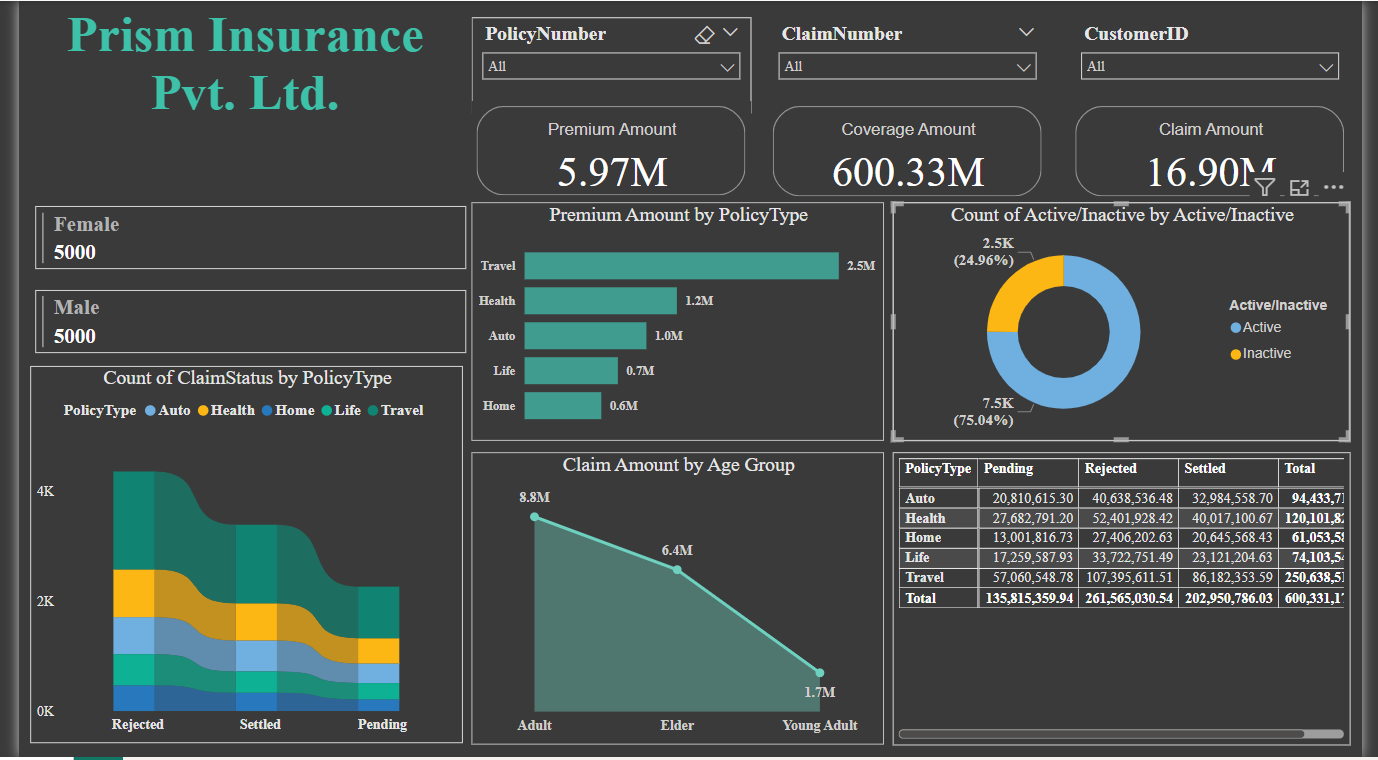

What the dashboard file says about the page in this screenshot:
{"tool":"powerbi","page":{"name":"Page 1","canvas":[1280,720],"ordinal":0},"visuals":[{"type":"slicer","fields":{"Values":["InsuranceData.PolicyNumber"]},"box":[430.9,15.1,266.2,91.9],"z":0},{"type":"slicer","fields":{"Values":["InsuranceData.ClaimNumber"]},"box":[713.6,15.1,266.2,91.9],"z":1000},{"type":"slicer","fields":{"Values":["InsuranceData.CustomerID"]},"box":[1001.7,15.1,266.2,91.9],"z":2000},{"type":"textbox","box":[0,0,430.9,123.5],"z":3000},{"type":"cardVisual","fields":{"Data":["Sum(InsuranceData.PremiumAmount)"]},"box":[431,95.2,266.7,95.2],"z":4000},{"type":"cardVisual","fields":{"Data":["Sum(InsuranceData.CoverageAmount)"]},"box":[713.6,94.7,266.2,96.1],"z":5000},{"type":"cardVisual","fields":{"Data":["Sum(InsuranceData.ClaimAmount)"]},"box":[1001.7,94.7,266.2,96.1],"z":6000},{"type":"multiRowCard","fields":{"Values":["InsuranceData.Gender","CountNonNull(InsuranceData.Gender)"]},"box":[11,190.7,419.9,177],"z":7000},{"type":"ribbonChart","title":"Count of ClaimStatus by PolicyType","fields":{"Category":["InsuranceData.ClaimStatus"],"Y":["CountNonNull(InsuranceData.ClaimStatus)"],"Series":["InsuranceData.PolicyType"]},"box":[10.7,347.6,411.9,359.5],"z":8000},{"type":"barChart","title":"Premium Amount by PolicyType","fields":{"Category":["InsuranceData.PolicyType"],"Y":["Sum(InsuranceData.PremiumAmount)"]},"box":[431,191.7,392.9,227.4],"z":8001},{"type":"lineChart","title":"Claim Amount by Age Group","fields":{"Category":["InsuranceData.Age Group"],"Y":["Sum(InsuranceData.ClaimAmount)"]},"box":[431,429.8,392.9,278.6],"z":8002},{"type":"donutChart","fields":{"Category":["InsuranceData.Active/Inactive"],"Y":["CountNonNull(InsuranceData.Active/Inactive)"]},"box":[832.1,191.7,435.7,227.4],"z":8003},{"type":"pivotTable","fields":{"Values":["Sum(InsuranceData.CoverageAmount)"],"Rows":["InsuranceData.PolicyType"],"Columns":["InsuranceData.ClaimStatus"]},"box":[832,430,436,279],"z":8004}]}

Visuals, with their boxes in screenshot pixels (x1, y1, x2, y2), scaled from the page's 1280x720 canvas onto the 1378x760 screenshot:
slicer - InsuranceData.PolicyNumber: select_region(464, 16, 750, 113)
slicer - InsuranceData.ClaimNumber: select_region(768, 16, 1055, 113)
slicer - InsuranceData.CustomerID: select_region(1078, 16, 1365, 113)
textbox: select_region(0, 0, 464, 130)
cardVisual - Sum(InsuranceData.PremiumAmount): select_region(464, 100, 751, 201)
cardVisual - Sum(InsuranceData.CoverageAmount): select_region(768, 100, 1055, 201)
cardVisual - Sum(InsuranceData.ClaimAmount): select_region(1078, 100, 1365, 201)
multiRowCard - InsuranceData.Gender x CountNonNull(InsuranceData.Gender): select_region(12, 201, 464, 388)
"Count of ClaimStatus by PolicyType" ribbonChart: select_region(12, 367, 455, 746)
"Premium Amount by PolicyType" barChart: select_region(464, 202, 887, 442)
"Claim Amount by Age Group" lineChart: select_region(464, 454, 887, 748)
donutChart - InsuranceData.Active/Inactive x CountNonNull(InsuranceData.Active/Inactive): select_region(896, 202, 1365, 442)
pivotTable - Sum(InsuranceData.CoverageAmount) x InsuranceData.PolicyType: select_region(896, 454, 1365, 748)
